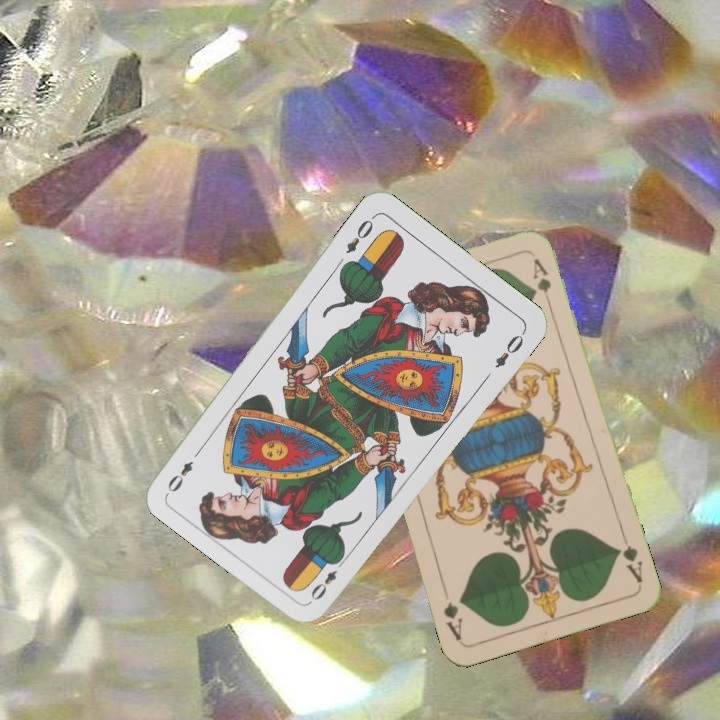EO: (306, 553, 348, 603), (341, 211, 378, 257)
GA: (612, 530, 645, 586)
